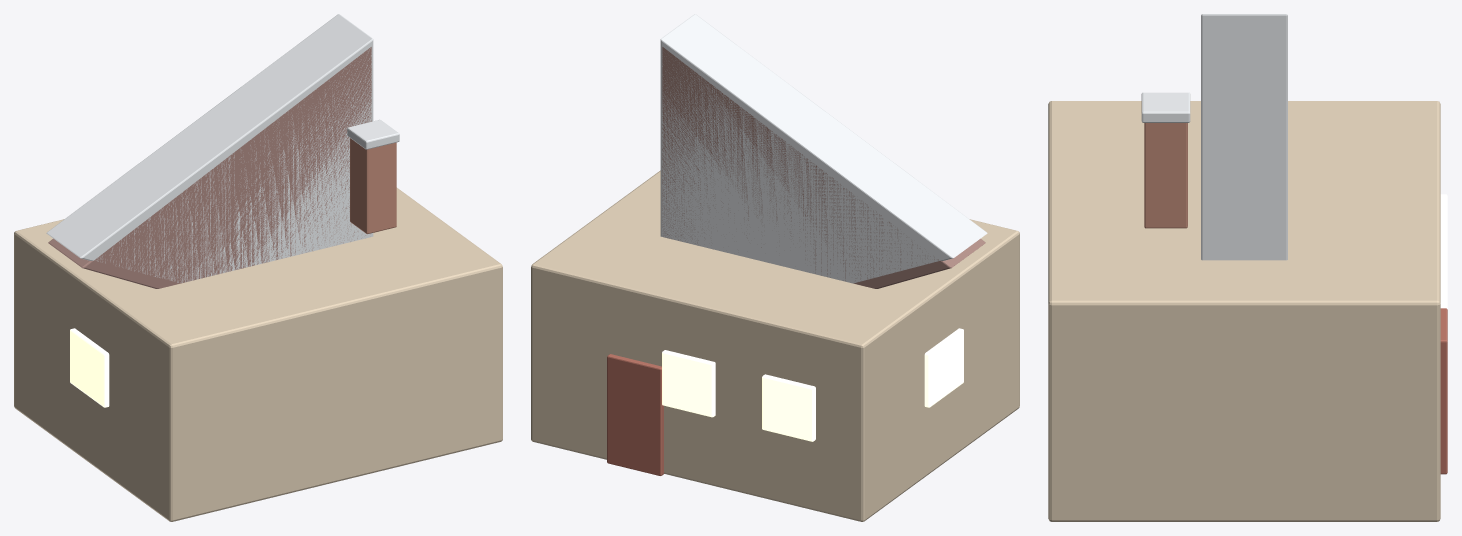
Rendered from house_a.glb.
3 views of the same model, side by side, from view 1: azimuth 30°, elevation 25°; view 2: azimuth 150°, elevation 25°; view 3: azimuth 270°, elevation 25° (orthographic). The views are drawn at different scales.
Parts seen in each view (by area): view 1: walls, snowcap, roof, chimney, winS, chimsnow; view 2: walls, snowcap, roof, door, win, win.001, winS; view 3: walls, snowcap, chimney, chimsnow, door, win.
Part boxes in pixels (x1,y1,x2,y2): walls: (14,187,502,521); snowcap: (46,14,373,282); roof: (48,47,371,288); chimney: (350,138,396,234); winS: (70,328,109,407); chimsnow: (347,119,399,149); walls: (531,170,1019,521); snowcap: (660,14,987,283); roof: (662,47,985,288); door: (607,354,664,475); win: (762,374,815,441); win.001: (662,350,715,417); winS: (924,328,963,407); walls: (1048,101,1440,521); snowcap: (1201,14,1287,260); chimney: (1144,123,1187,228); chimsnow: (1141,92,1190,122); door: (1440,308,1447,474); win: (1440,194,1447,255).
Size of the model in its own units: 5.97 by 5.91 by 4.58.
